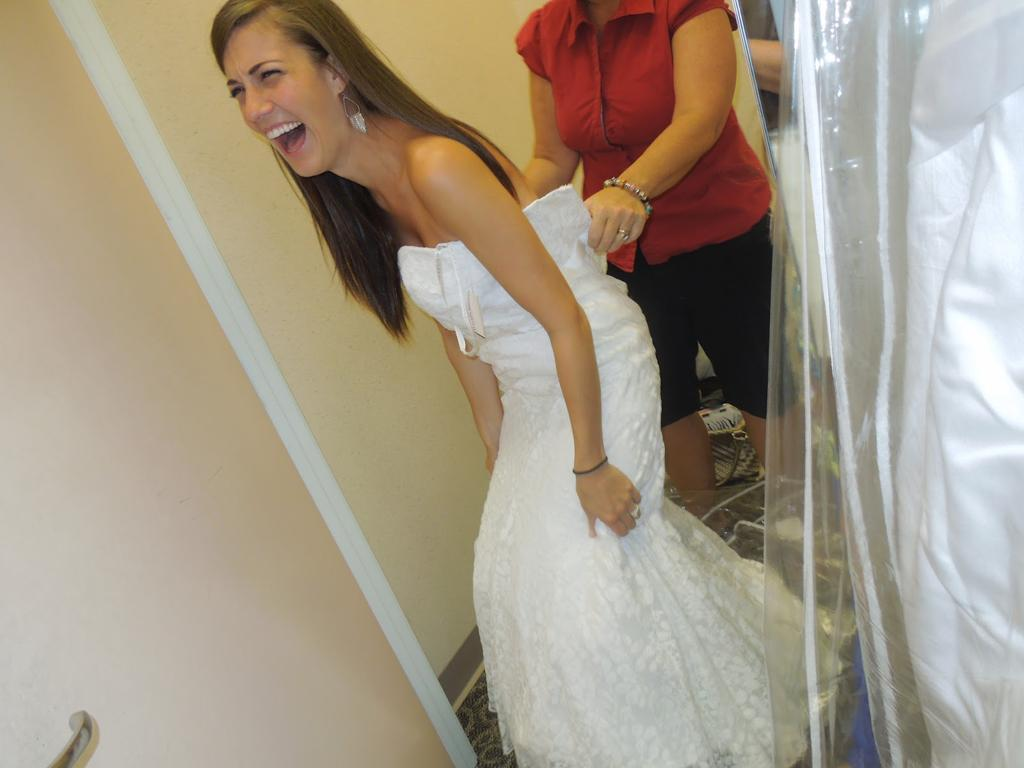face: (225, 17, 343, 175)
